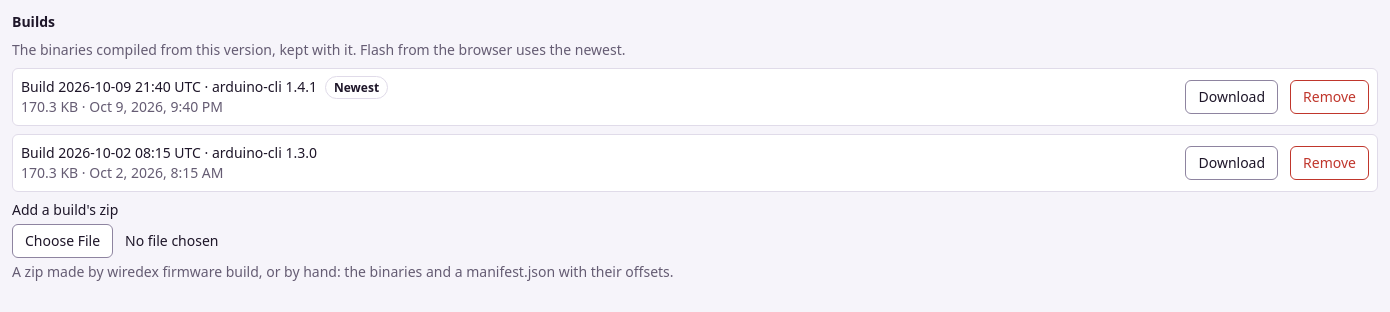
Scenario: BuildsSection › lists a version's builds newest first, each to download or remove
Expected: the number of list items is 2, [12,68,1378,126]; [12,134,1378,192]
Expected: the 1st list item shows "Build 2026-10-09 21:40 UTC · arduino-cli 1.4.1Newest", [12,68,1378,126]
Click the button with aria-label "Remove Build 2026-10-02".
click(1330, 163)  # box [1290,146,1369,180]
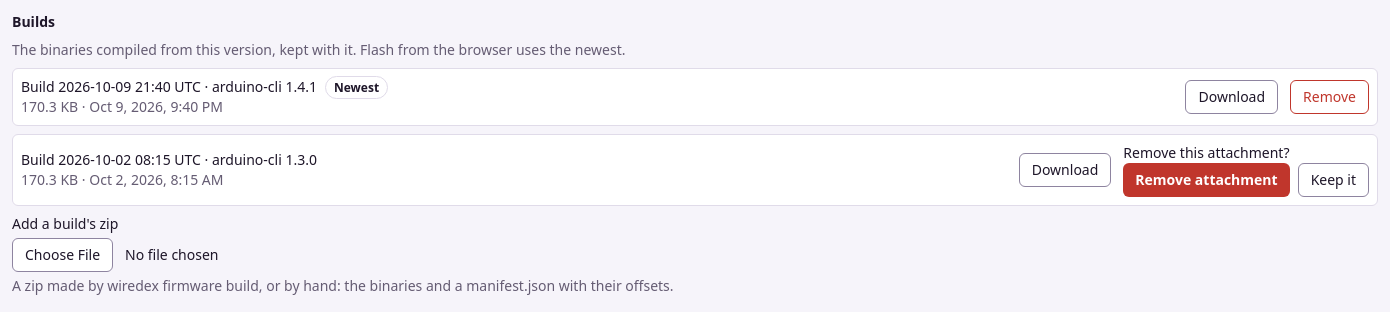
Click the button "Remove attachment".
click(1206, 180)  # box [1123,163,1290,197]
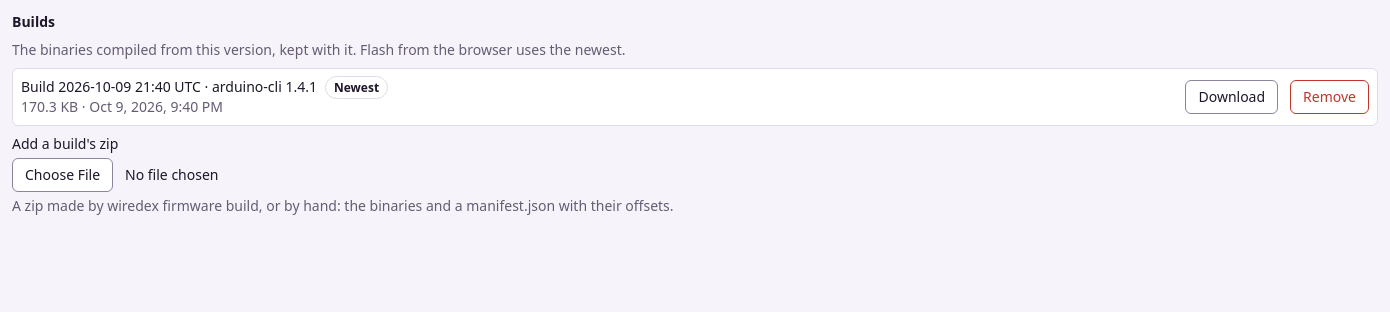
Expected: the number of list items is 1, [12,68,1378,126]
